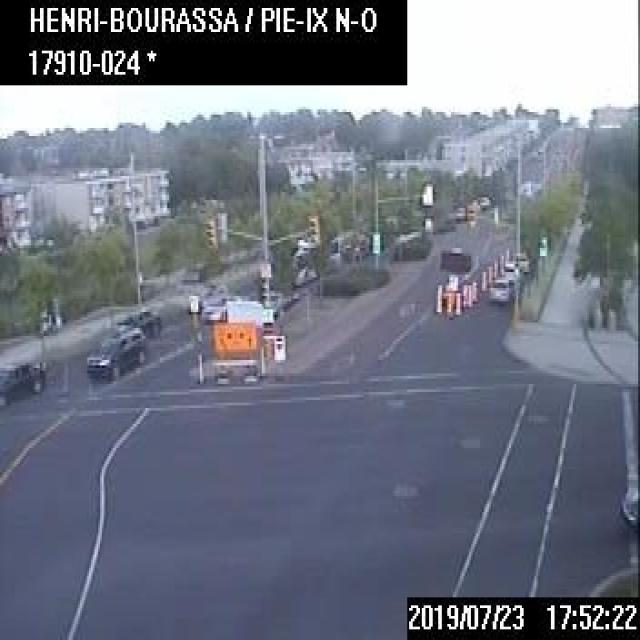construction: (193, 299, 271, 384), (438, 246, 469, 310), (444, 290, 452, 317), (434, 282, 441, 311), (453, 289, 460, 313), (462, 281, 468, 306), (470, 279, 476, 301), (479, 268, 485, 289), (492, 258, 497, 276), (497, 253, 502, 271), (486, 264, 491, 278), (503, 245, 509, 256)
vehicle: (84, 322, 144, 378), (0, 359, 45, 405), (618, 478, 638, 534), (114, 309, 160, 333), (200, 294, 237, 320), (485, 272, 513, 304), (503, 258, 522, 281)
